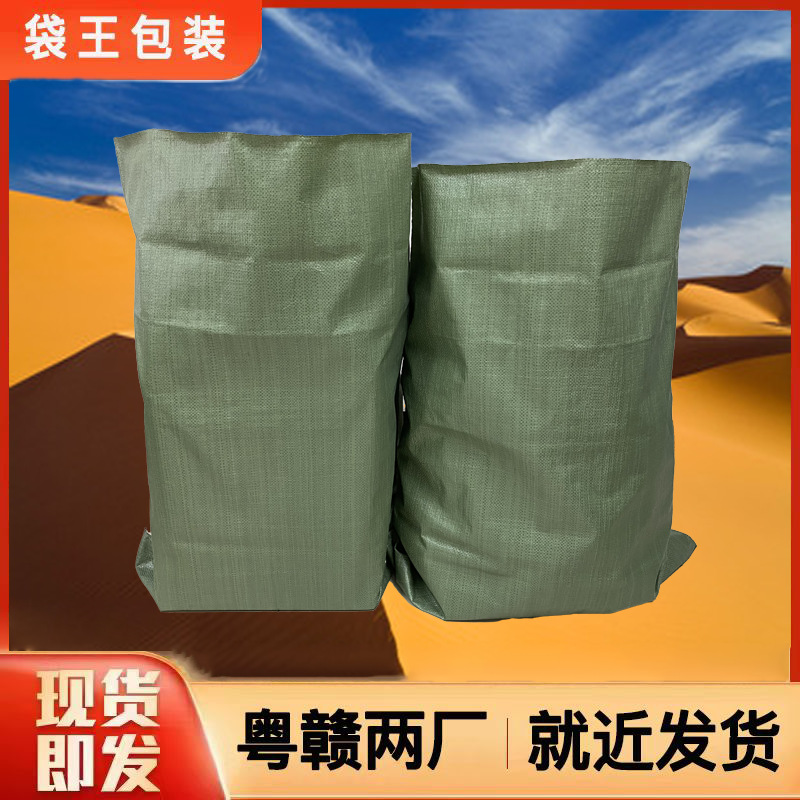Parcel: (116, 130, 412, 611), (391, 159, 696, 620)
